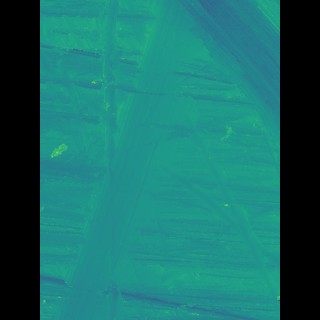Loch: (80, 0, 250, 320)
